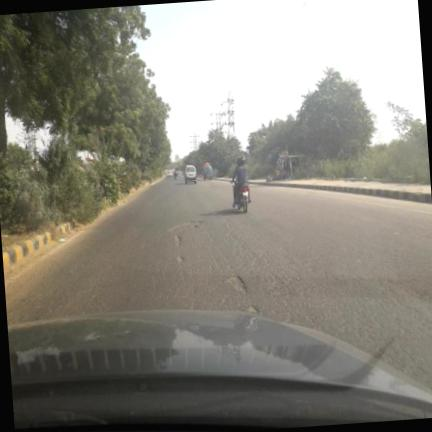Road: (5, 179, 431, 388)
